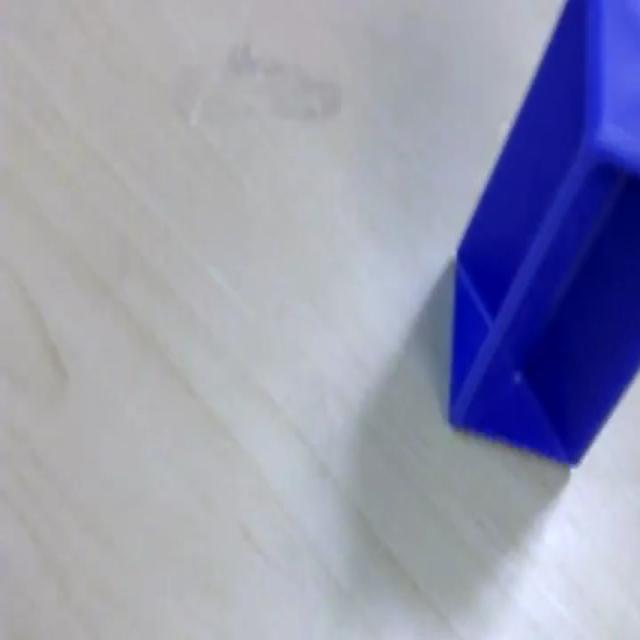blue_block: (446, 0, 638, 469)
